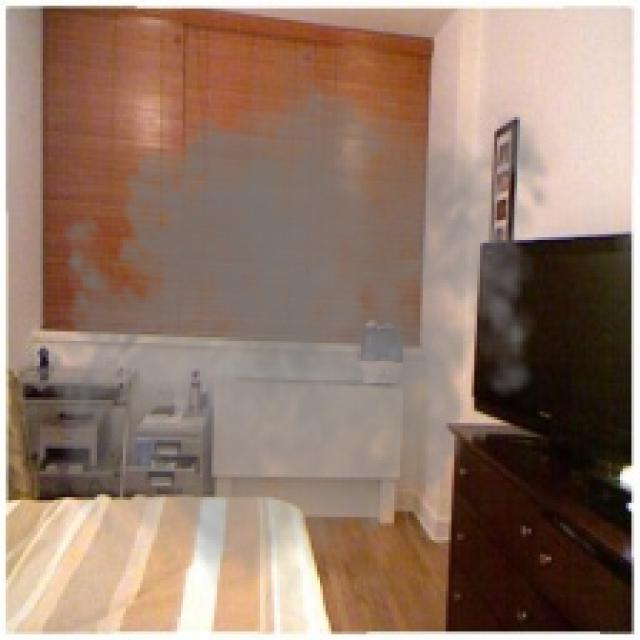smoke: (37, 49, 566, 614)
